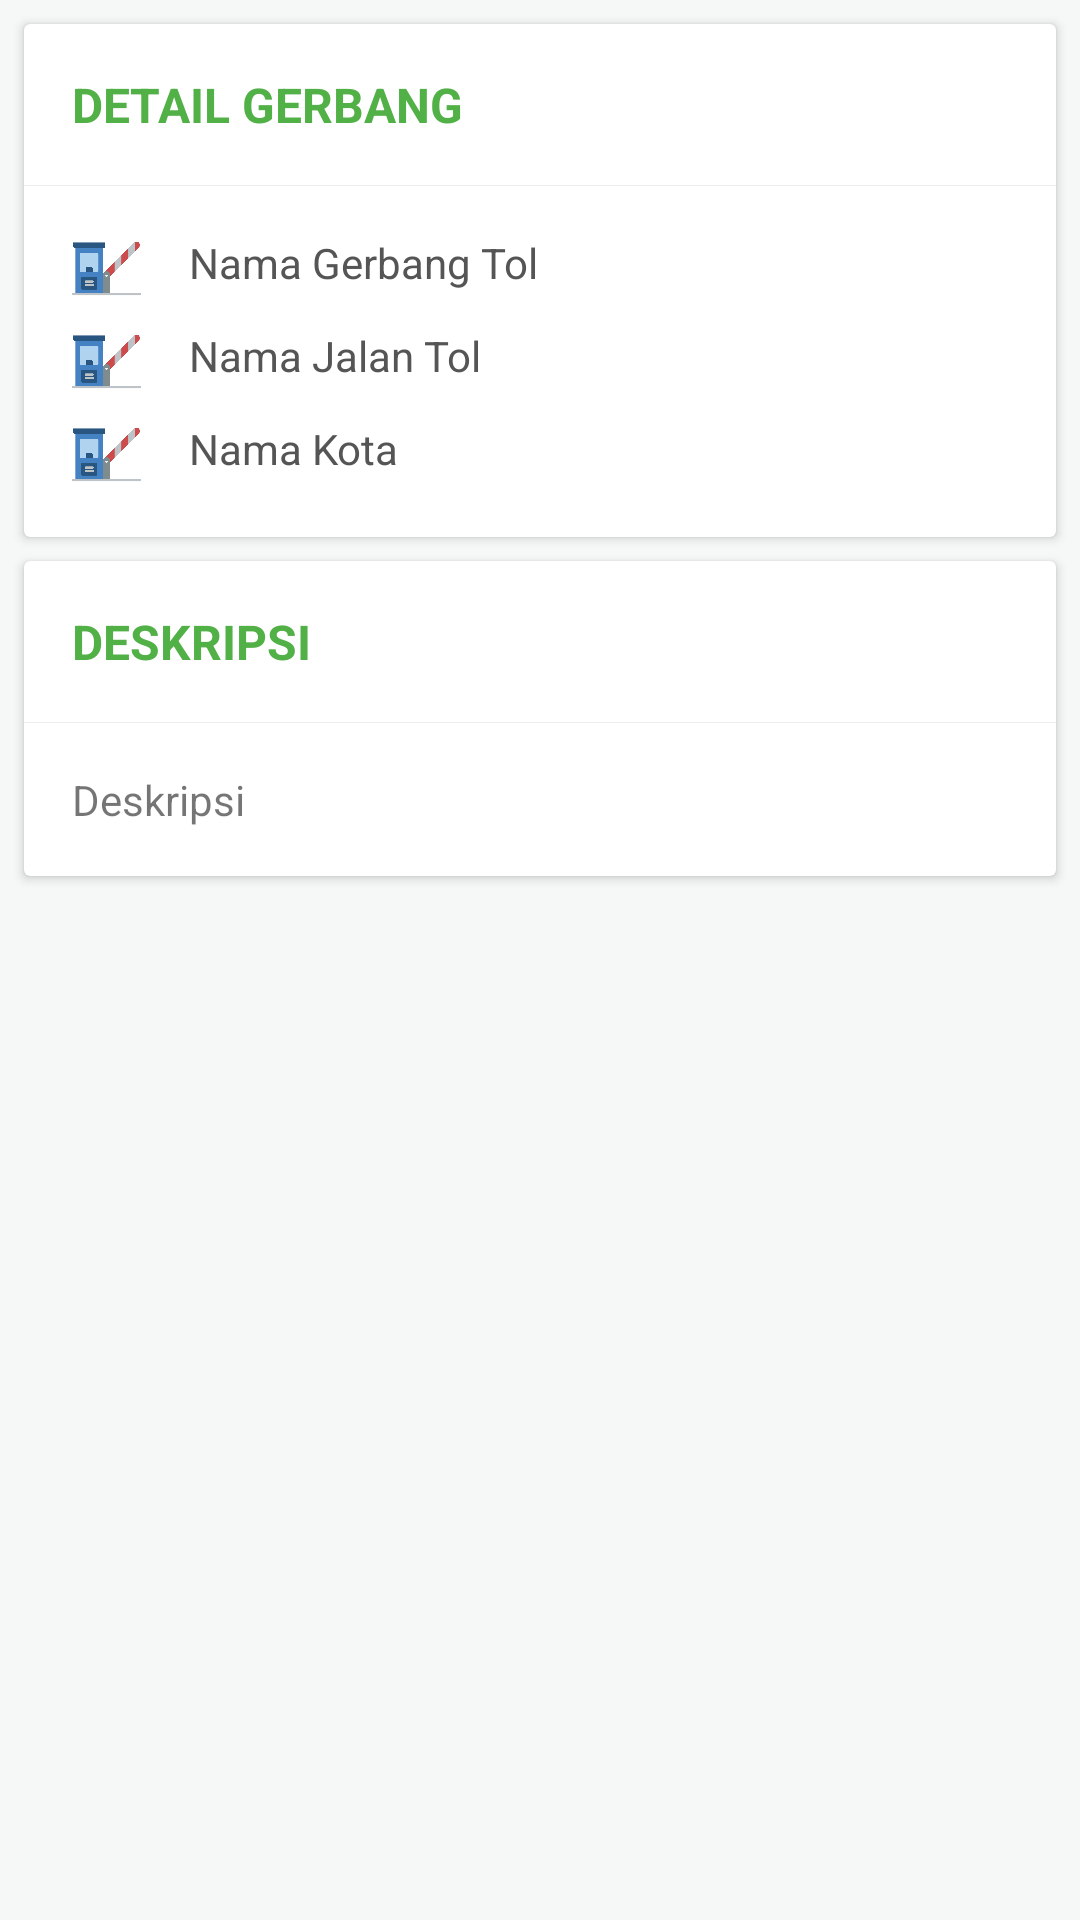

Locate icon controls on the screen. Image size 1080*1920, boxes as [x1,y1,x2,y2].
tollroad: [72,242,141,295], [72,335,141,388], [72,428,141,481]
